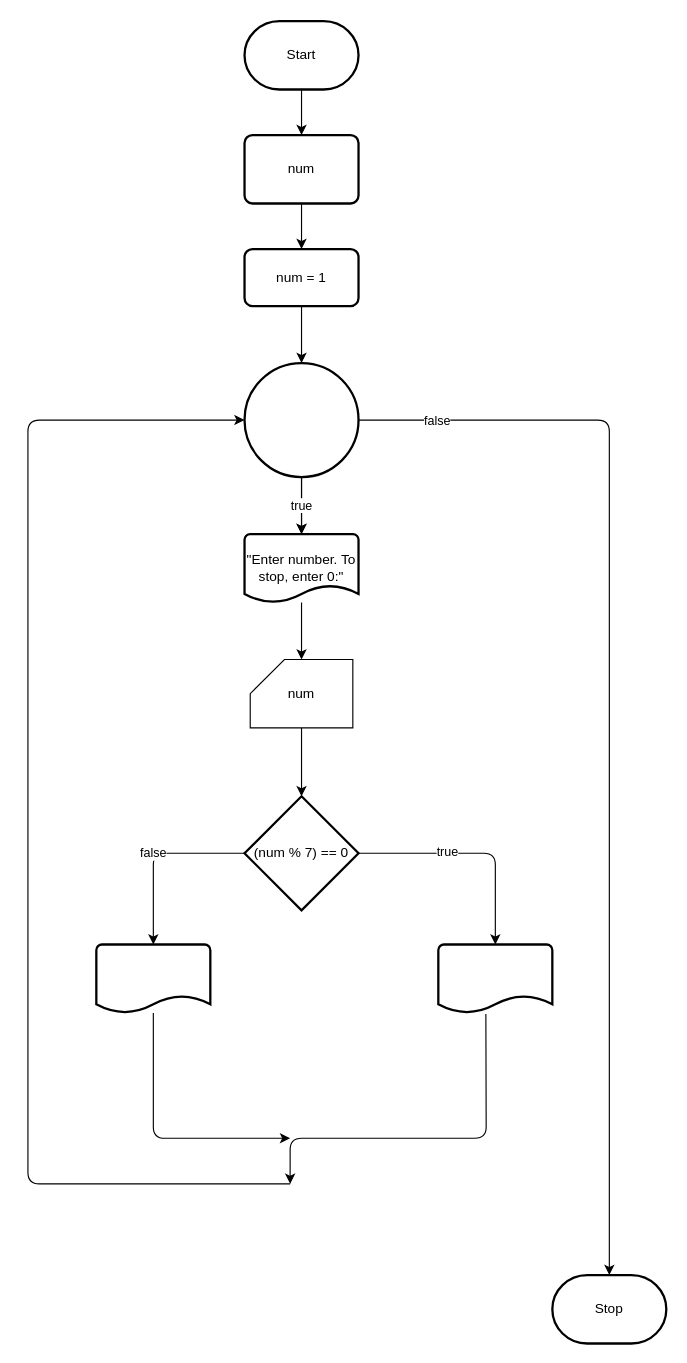
This 687x1363 diagram has some shape labels left out. The centre of each missing label's shape, as x and y in pixels:
"No": [153,978]
"Yes": [495,978]
while num != 0: [301,419]
